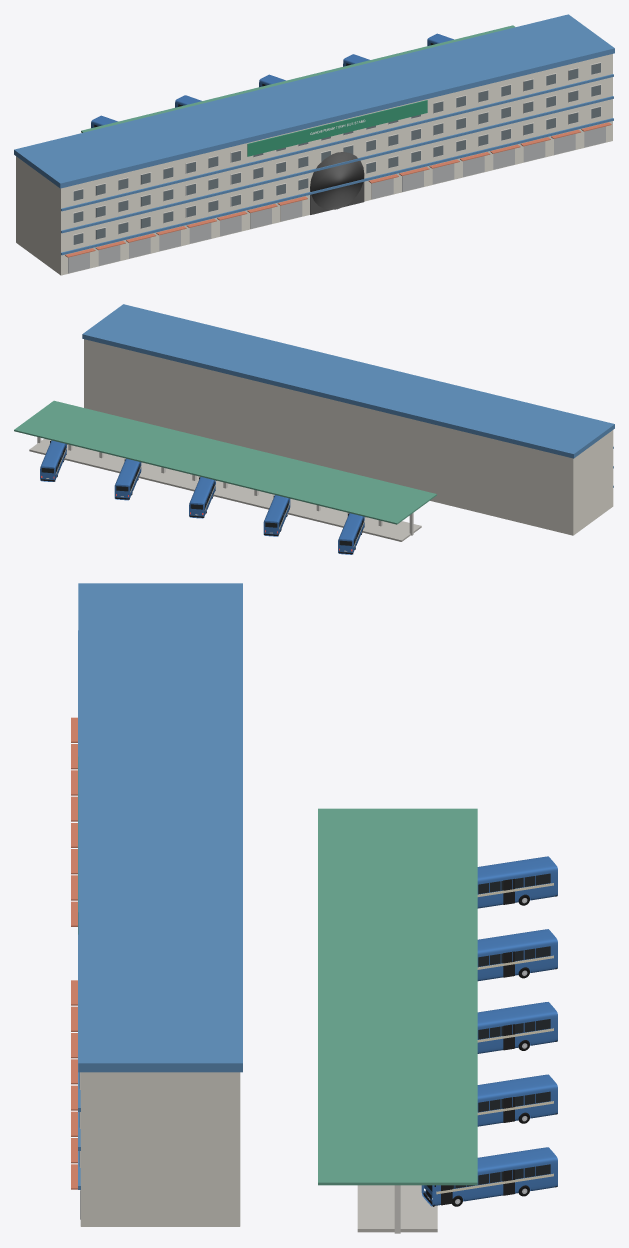
File: bus_town_ao.glb
The picture shows the model from 3 angles, top to bottom: view 1: azimuth 30°, elevation 25°; view 2: azimuth 150°, elevation 25°; view 3: azimuth 270°, elevation 25°; orthographic projection. The views are drawn at different scales.
Parts seen in each view (by area): view 1: bus_town; view 2: bus_town; view 3: bus_town.
Part boxes in pixels (box(x1,y1,x2,y2)): bus_town: box(14, 14, 614, 275); bus_town: box(14, 304, 614, 554); bus_town: box(71, 583, 557, 1233).
Bounding box in the file's own units: 94.2 × 14.9 × 39.65.
